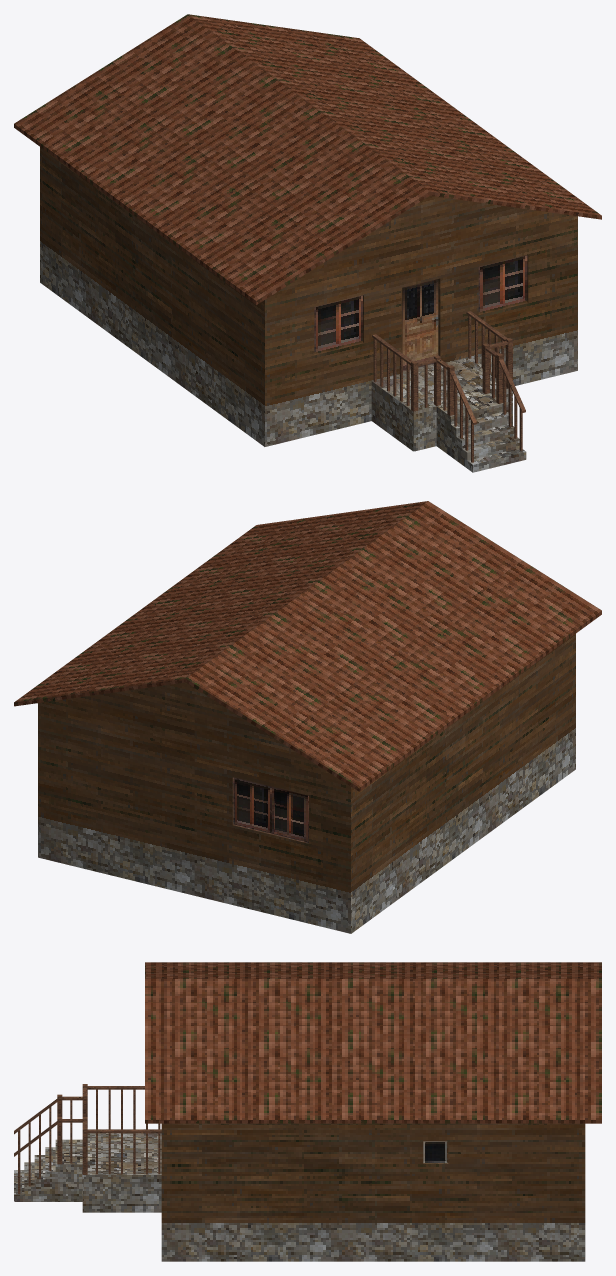
Rendered from house1.glb.
3 renders of one model, top to bottom at view 1: azimuth 30°, elevation 25°; view 2: azimuth 150°, elevation 25°; view 3: azimuth 270°, elevation 25°, orthographic. The views are drawn at different scales.
Parts seen in each view (by area): view 1: house1, house1_windows, house1_door1; view 2: house1, house1_windows; view 3: house1, house1_windows.
Part boxes in pixels (x1=…): house1: x1=14, y1=14, x2=601, y2=472; house1_windows: x1=314, y1=255, x2=528, y2=354; house1_door1: x1=402, y1=279, x2=438, y2=371; house1: x1=14, y1=501, x2=601, y2=933; house1_windows: x1=232, y1=777, x2=308, y2=843; house1: x1=14, y1=962, x2=601, y2=1261; house1_windows: x1=423, y1=1141, x2=448, y2=1163.
Size of the model in its own units: 9.05 by 5.6 by 14.15.
Materials: 7 (7 with a texture image).
